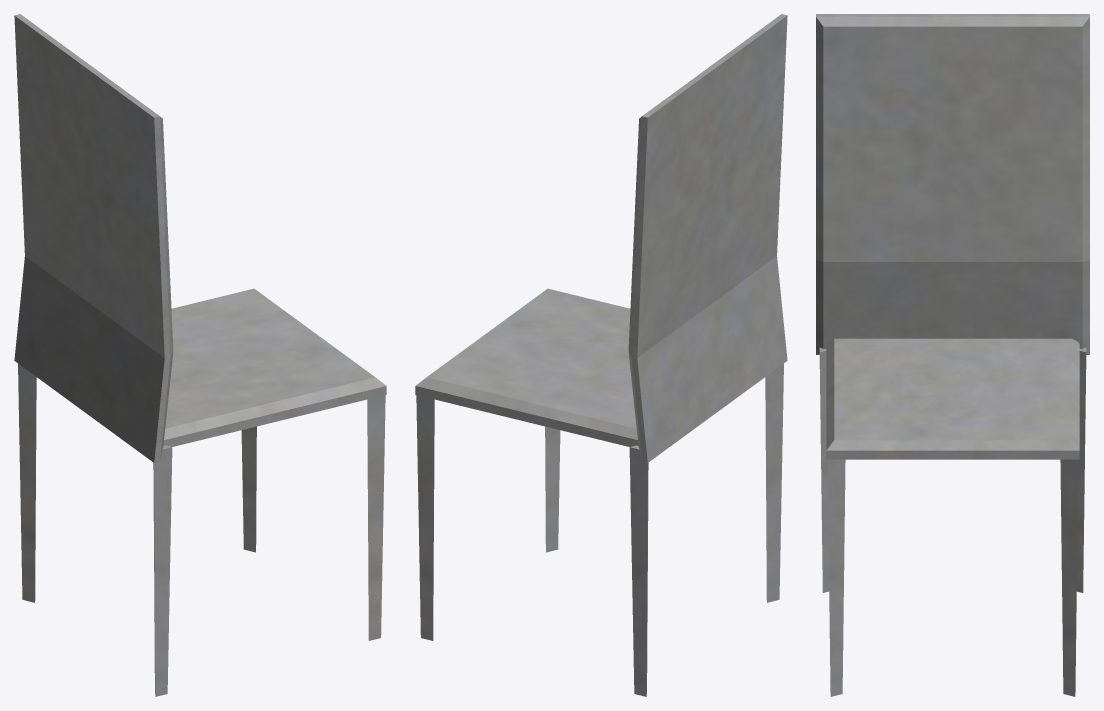
Rendered from Chair_18-col.glb.
The picture shows the model from 3 angles, left to right: view 1: azimuth 30°, elevation 25°; view 2: azimuth 150°, elevation 25°; view 3: azimuth 270°, elevation 25°; orthographic projection. The views are drawn at different scales.
Parts seen in each view (by area): view 1: Chair_18-col; view 2: Chair_18-col; view 3: Chair_18-col.
Part boxes in pixels (x1,y1,x2,y2): Chair_18-col: [14, 14, 386, 696]; Chair_18-col: [415, 14, 787, 696]; Chair_18-col: [816, 14, 1089, 696].
Bounding box in the file's own units: 0.495 × 1.16 × 0.5043.
Materials: 1 (1 with a texture image).
